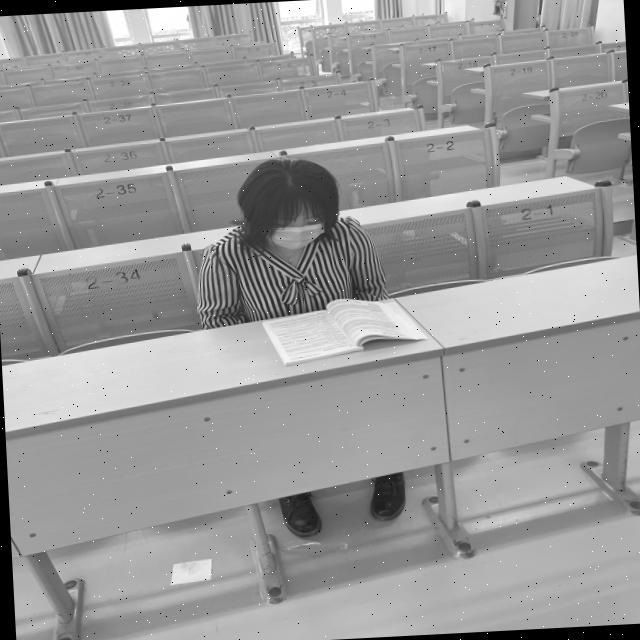study: (189, 155, 392, 360)
